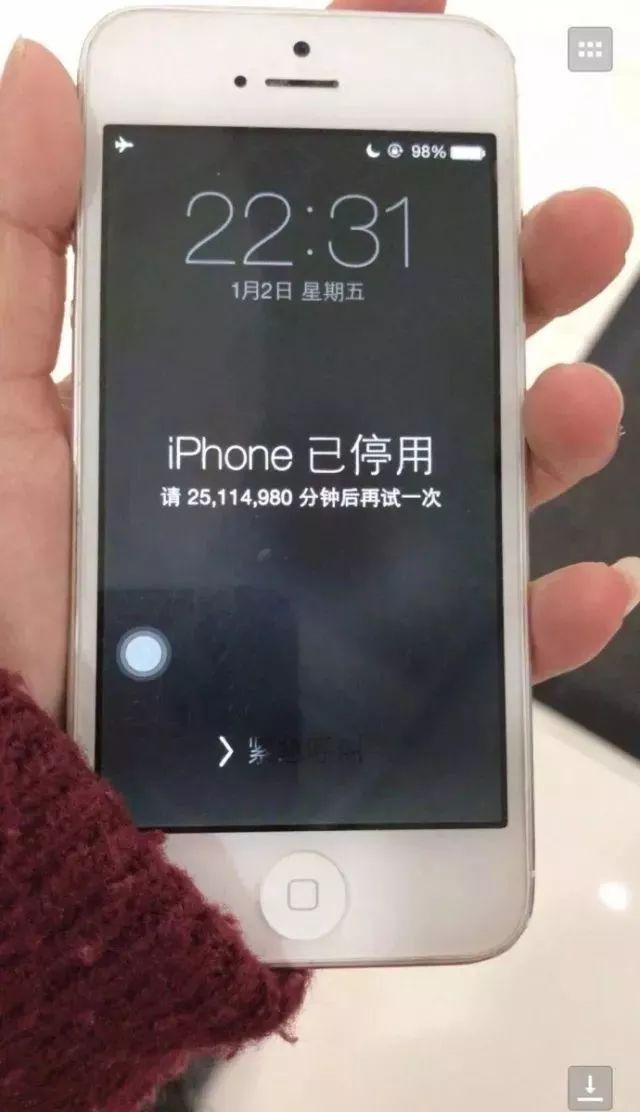phone: (80, 13, 538, 958)
